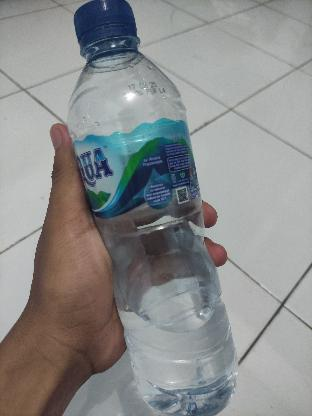Plastic Bottle: (64, 4, 247, 416)
